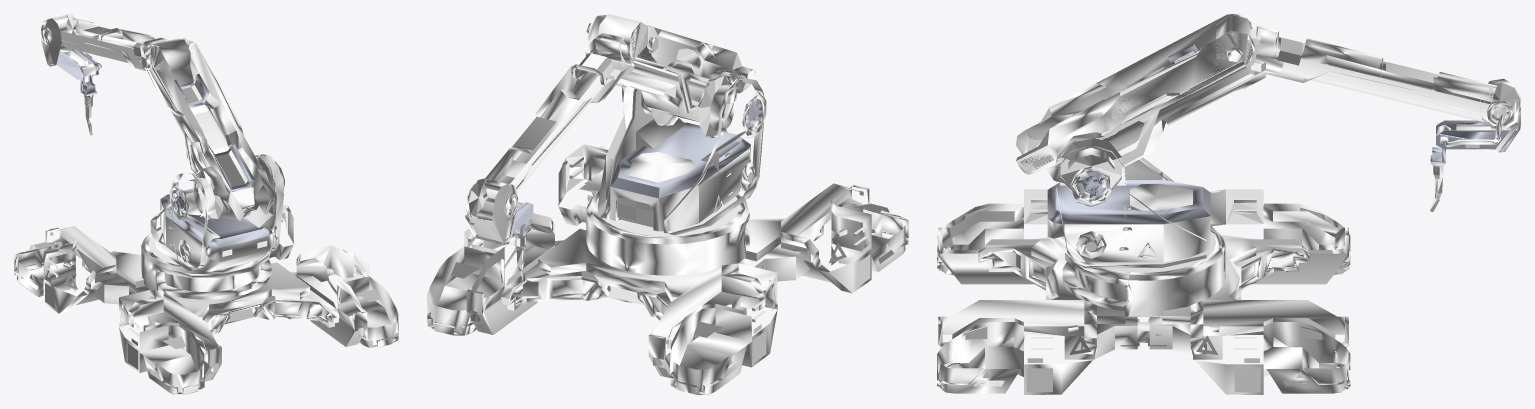
Rendered from crane_welding_arm_1_a.glb.
3 renders of one model, left to right at view 1: azimuth 30°, elevation 25°; view 2: azimuth 150°, elevation 25°; view 3: azimuth 270°, elevation 25°, orthographic. The views are drawn at different scales.
Size of the model in its own units: 5.75 by 5.78 by 10.11.
